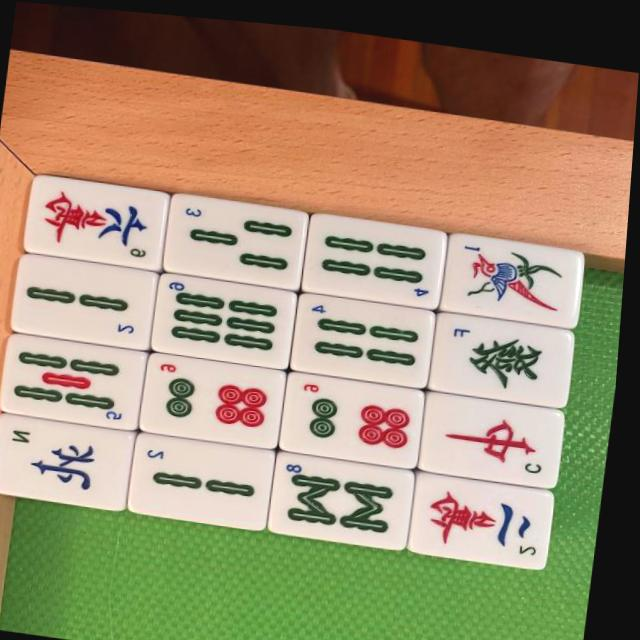hdg: (438, 308, 574, 394)
hdr: (431, 390, 565, 474)
hwn: (0, 412, 146, 510)
sb1: (449, 222, 591, 317)
sb2: (141, 428, 284, 527), (20, 261, 157, 341)
sb3: (174, 193, 305, 277)
sb4: (296, 284, 436, 379), (312, 214, 444, 293)
sb5: (12, 337, 149, 424)
sb6: (163, 274, 292, 359)
sb8: (280, 452, 416, 539)
sc2: (421, 471, 560, 556)
sc6: (34, 181, 167, 260)
sd6: (147, 351, 290, 444), (290, 370, 422, 454), (152, 353, 281, 437)
